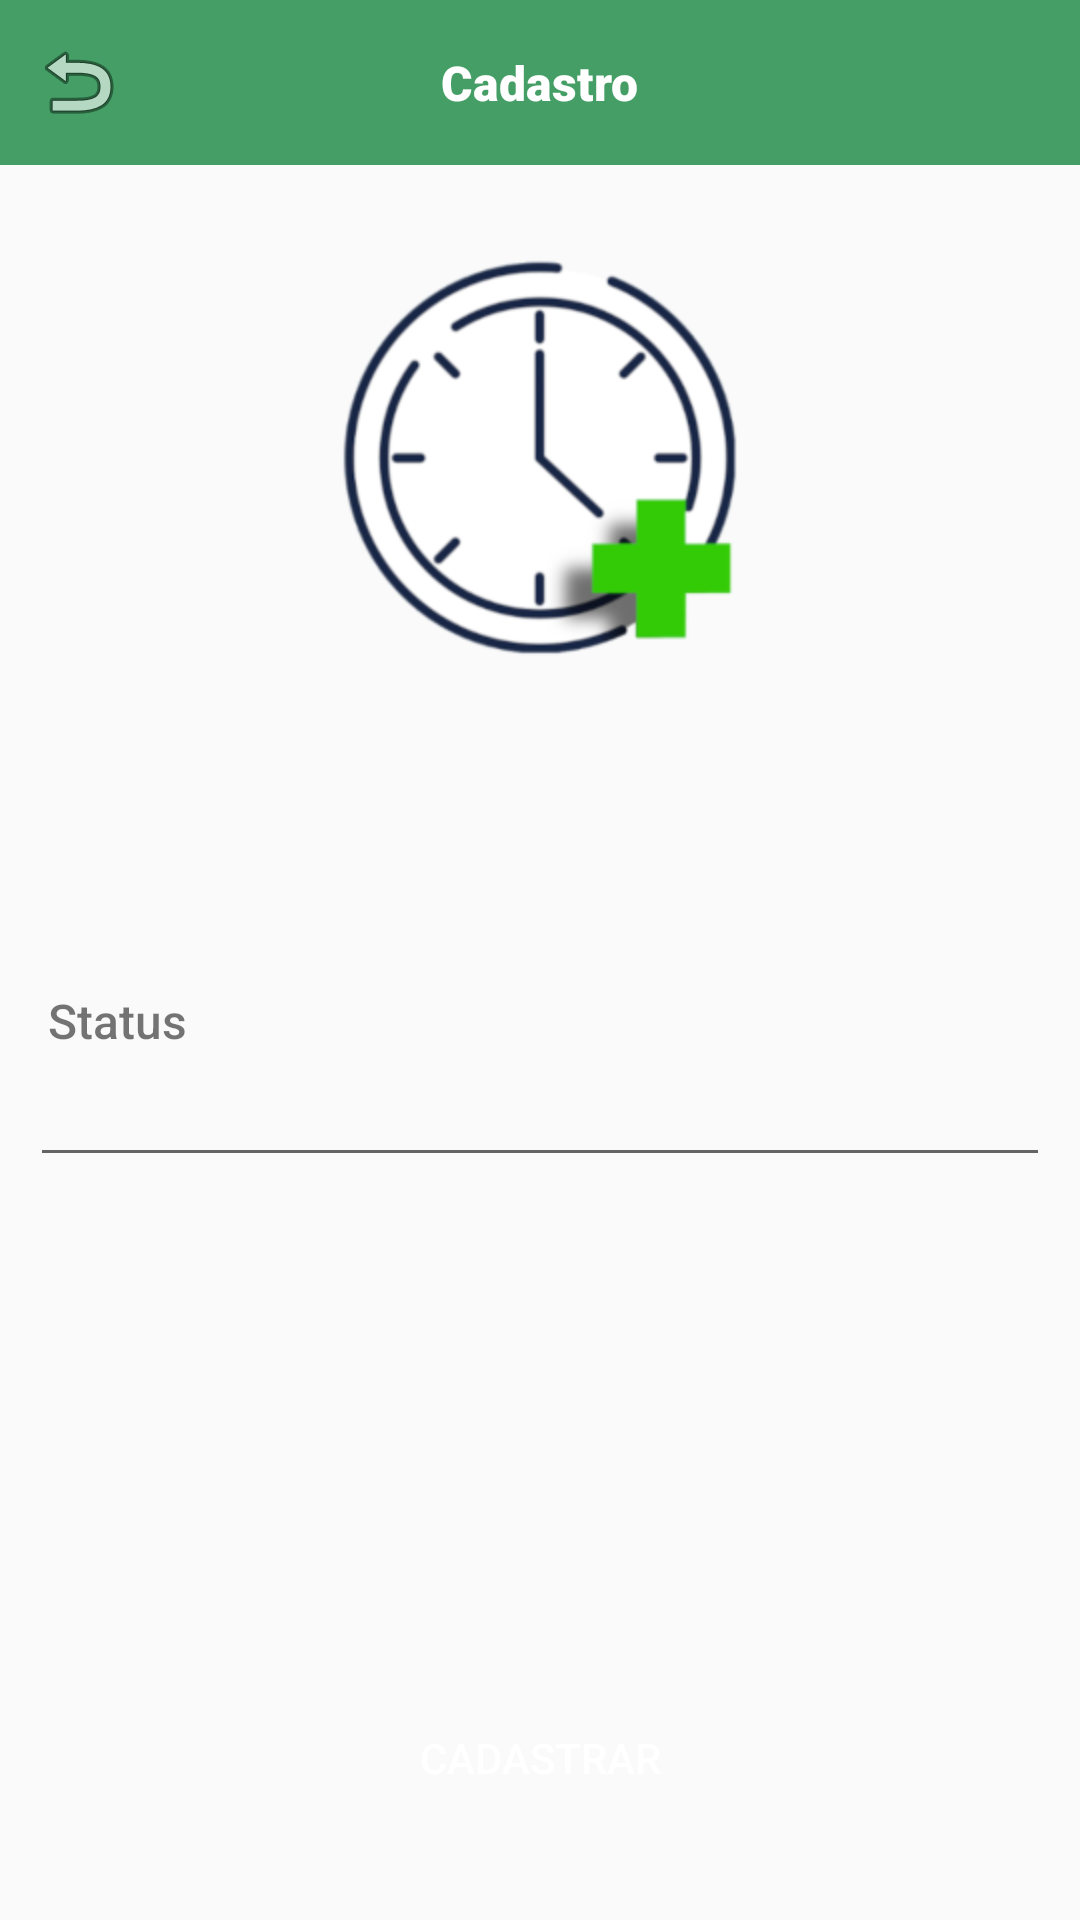

Point at icon controls on the screen. Image size 1080 × 1920, points as (x,y).
revert: (79,83)
